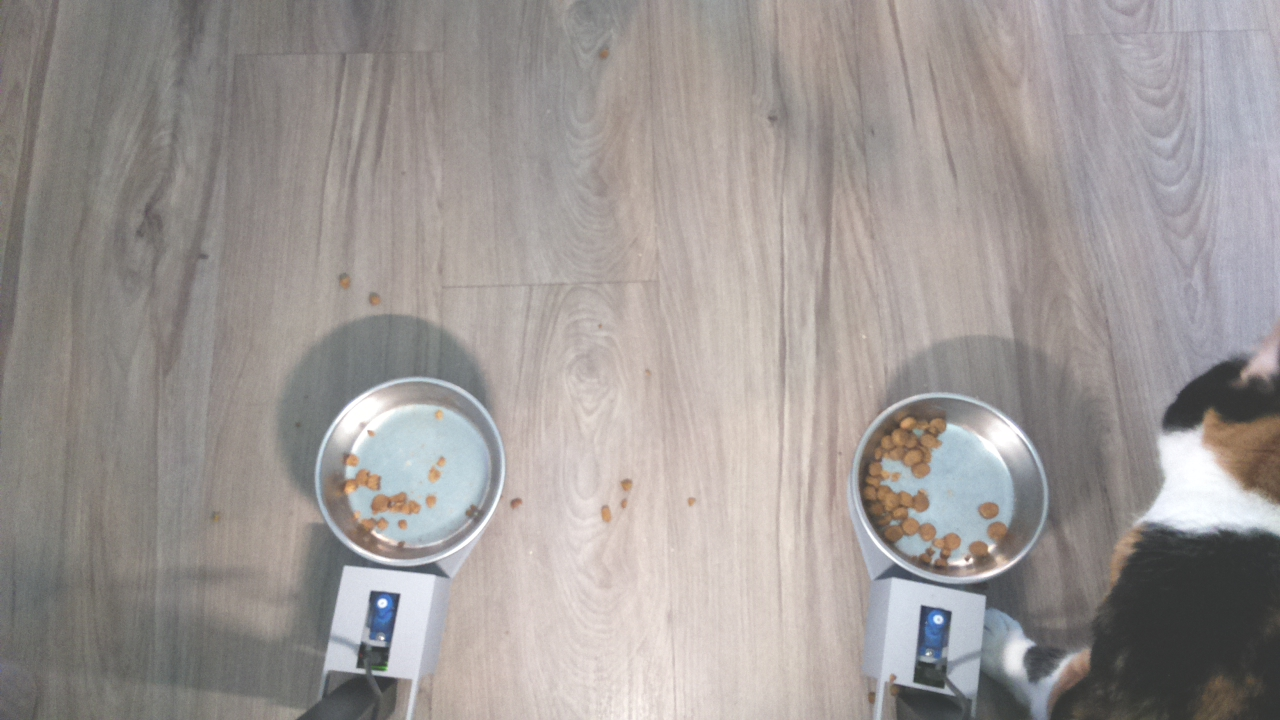bella: (1143, 321, 1280, 522)
open_bowl: (848, 387, 1051, 590), (307, 373, 509, 575)
